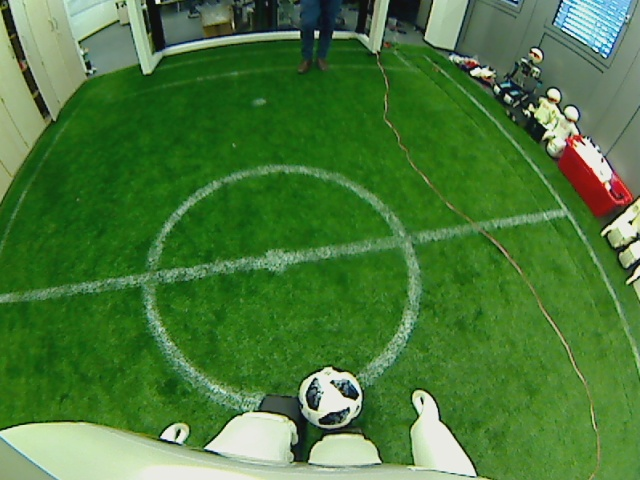ball: (295, 364, 364, 428)
